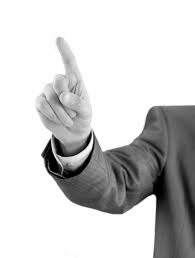pointing_gesture: (32, 35, 93, 141)
